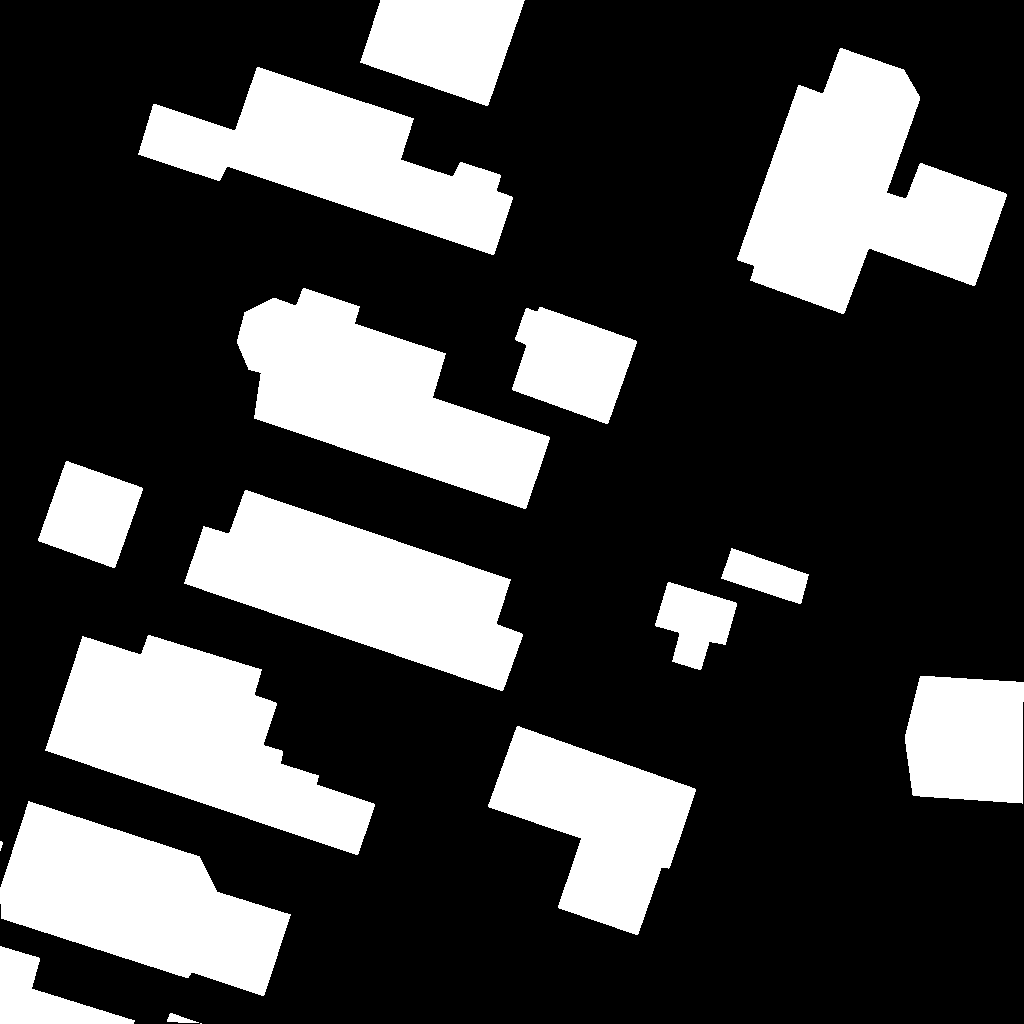building: (45, 635, 376, 856), (737, 48, 1008, 315), (138, 67, 514, 256), (237, 288, 551, 510), (184, 490, 524, 692), (0, 801, 292, 997), (488, 726, 697, 936), (360, 0, 526, 107), (0, 946, 203, 1024), (905, 676, 1024, 804), (512, 307, 638, 425), (38, 461, 144, 569), (655, 582, 738, 671), (721, 548, 810, 605), (0, 841, 4, 853)
